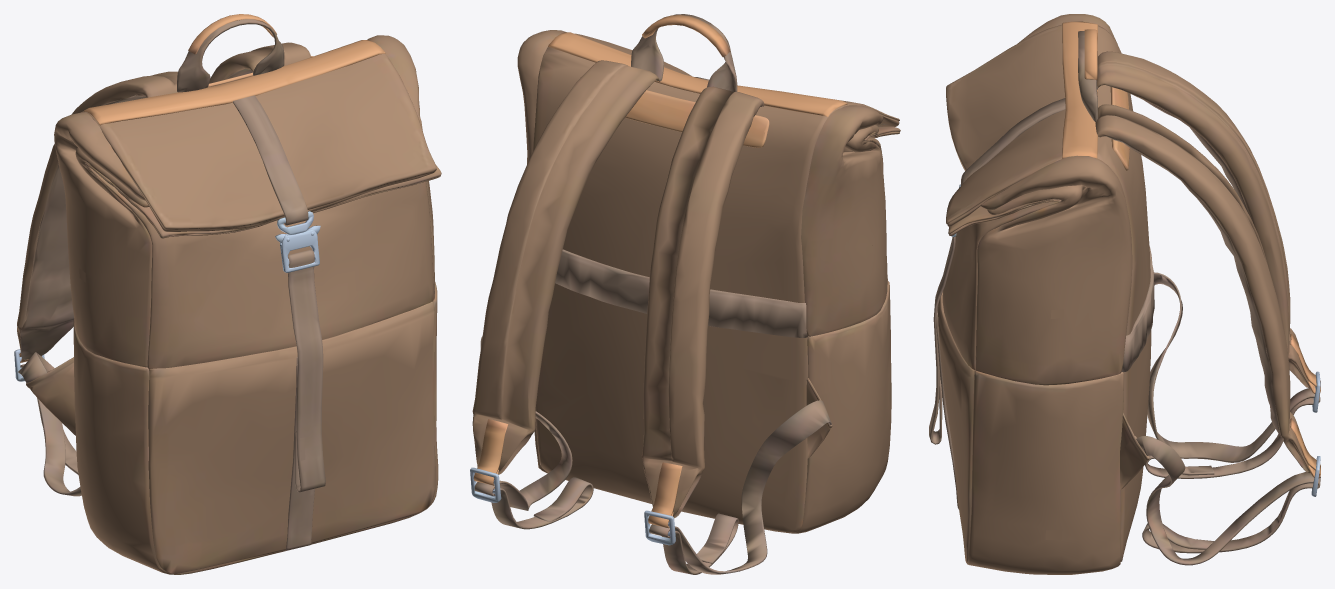
Rendered from backpack-daypack.glb.
3 views of the same model, side by side, from view 1: azimuth 30°, elevation 25°; view 2: azimuth 150°, elevation 25°; view 3: azimuth 270°, elevation 25° (orthographic). The views are drawn at different scales.
Visible parts, largest first — view 1: Object_0; view 2: Object_0; view 3: Object_0.
Part boxes in pixels (<box>): Object_0: <box>14,14,441,574</box>; Object_0: <box>470,14,900,574</box>; Object_0: <box>929,14,1320,574</box>.
Bounding box in the file's own units: 0.3665 × 0.4801 × 0.357.
Materials: 1 (1 with a texture image).
